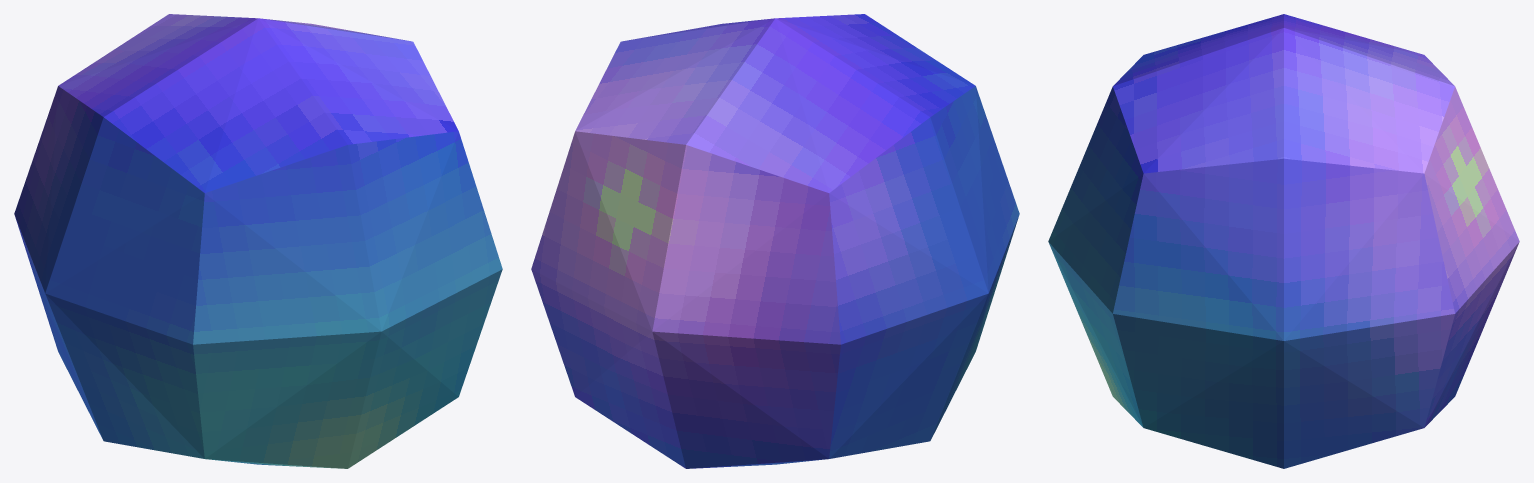
File: bocha_azul.obj
The picture shows the model from 3 angles, left to right: view 1: azimuth 30°, elevation 25°; view 2: azimuth 150°, elevation 25°; view 3: azimuth 270°, elevation 25°; orthographic projection. The views are drawn at different scales.
Parts seen in each view (by area): view 1: Bocha_2; view 2: Bocha_2; view 3: Bocha_2.
Boxes of the visible parts, x1,y1,x2,y2 form: Bocha_2: [14, 14, 502, 468]; Bocha_2: [531, 14, 1019, 468]; Bocha_2: [1048, 14, 1519, 468].
Bounding box in the file's own units: 0.0314 × 0.0314 × 0.0314.
1 material, 1 textured.
